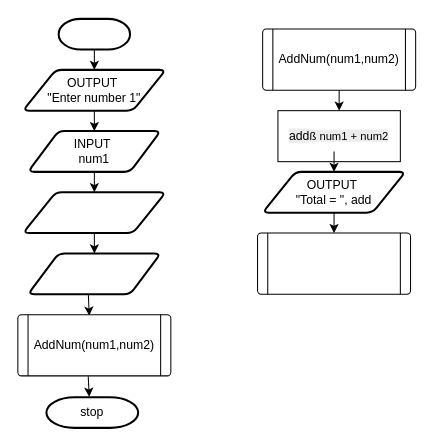
Image size: 434x446. Some labels were removed from this diagram. Each missing label, with the centre of its shape:
INPUT num2: (x=94, y=273)
OUTPUT "Enter number2": (x=93, y=212)
Return: (x=334, y=263)
start: (x=94, y=33)
